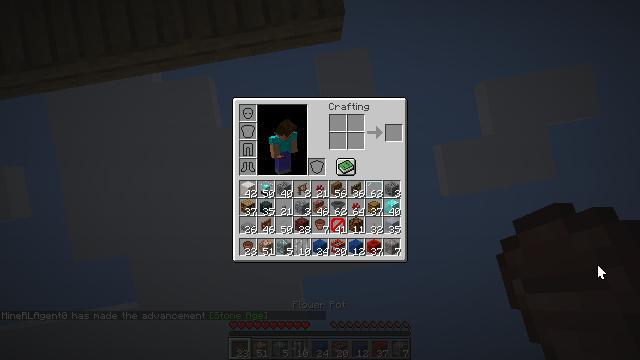cursor: (597, 264, 607, 280)
